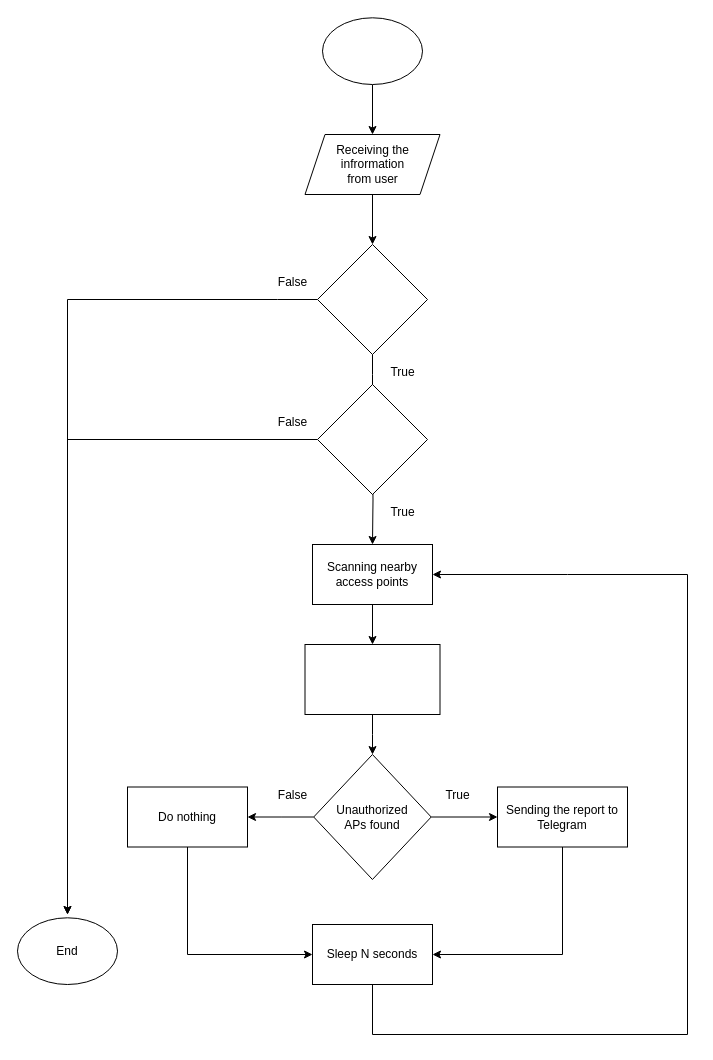
This 713x1060 diagram has some shape labels left out. The centre of each missing label's shape, as x and y in pixels:
"Data is valid" belongs at pixel 372 299.
"Identifies unauthorized access points" belongs at pixel 372 679.
"Script run as root" belongs at pixel 372 439.
"Start" belongs at pixel 372 50.
